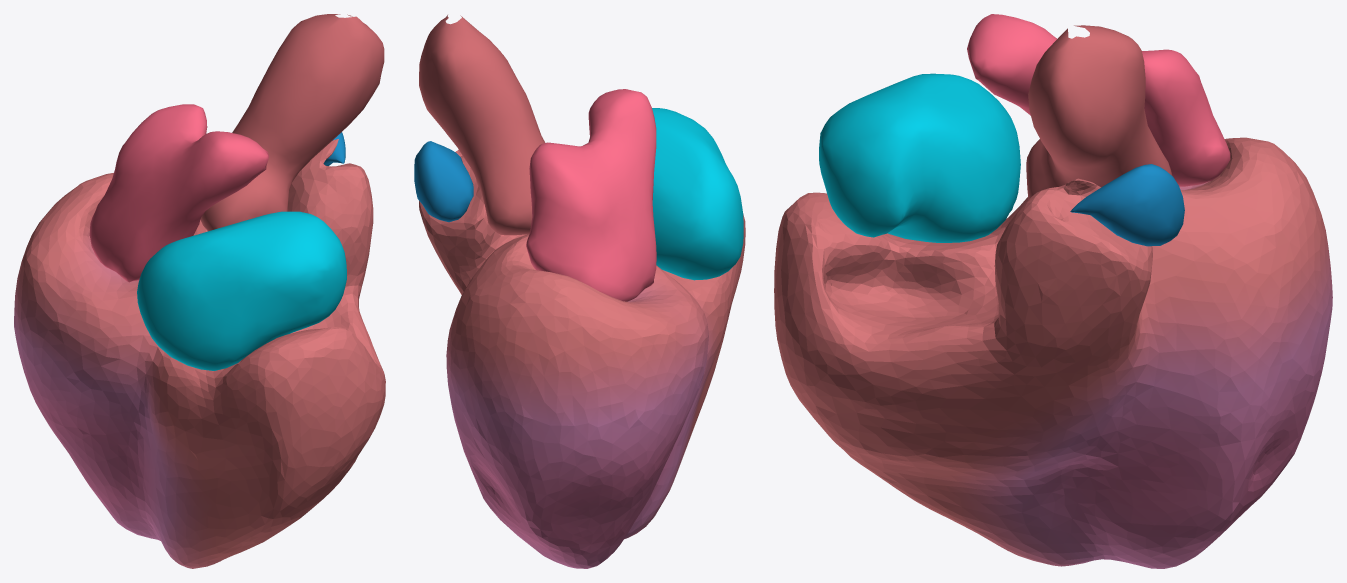
Rendered from frame_6.glb.
3 views of the same model, side by side, from view 1: azimuth 30°, elevation 25°; view 2: azimuth 150°, elevation 25°; view 3: azimuth 270°, elevation 25° (orthographic). The views are drawn at different scales.
Parts seen in each view (by area): view 1: Renderer Node; view 2: Renderer Node; view 3: Renderer Node.
Part boxes in pixels (bbox=[...]): Renderer Node: bbox=[14, 14, 385, 568]; Renderer Node: bbox=[414, 15, 745, 568]; Renderer Node: bbox=[774, 14, 1332, 568].
Size of the model in its own units: 101 by 158 by 126.
